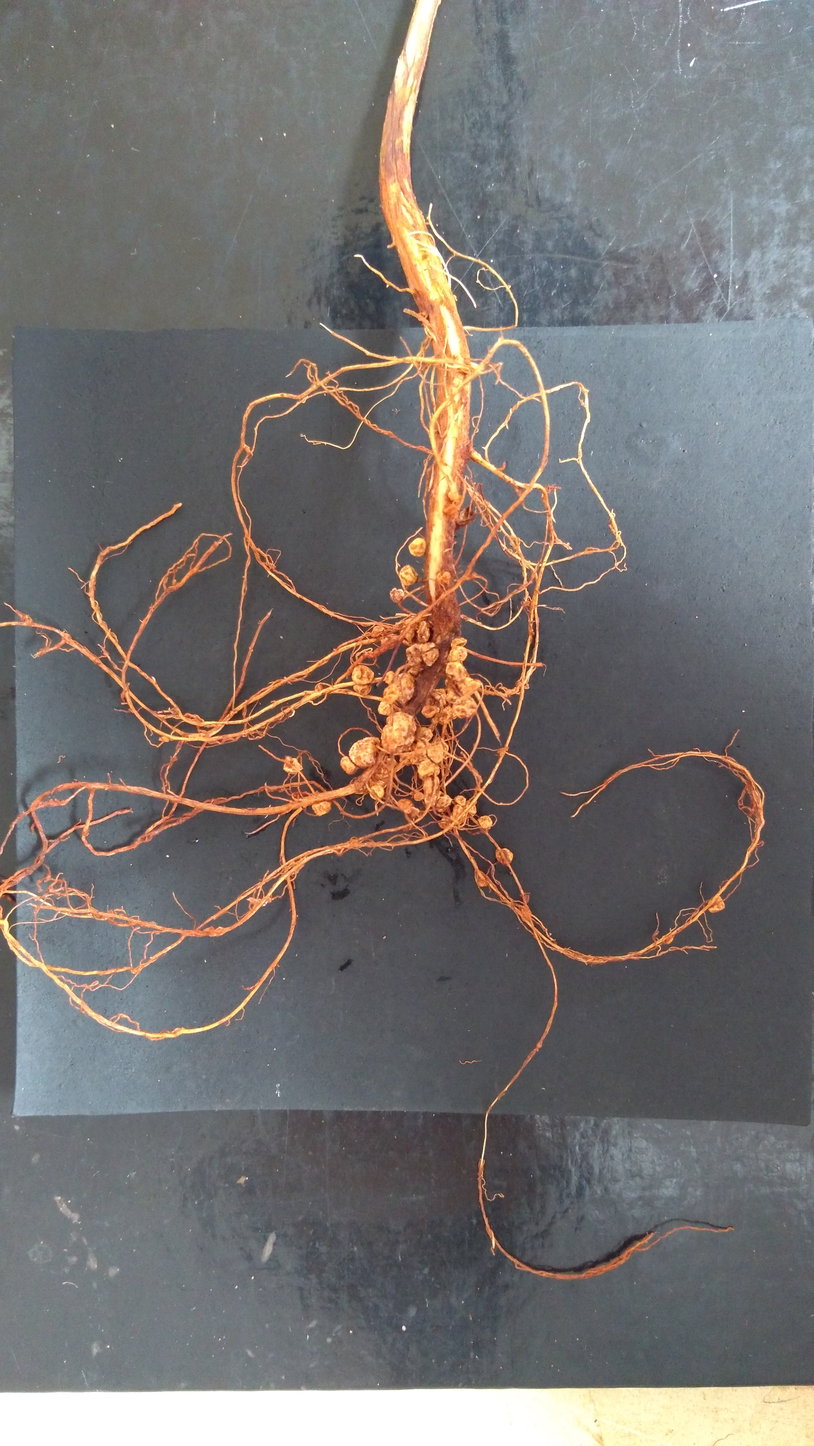nodule: (380, 712, 417, 753), (432, 592, 460, 646), (348, 736, 380, 769), (421, 688, 447, 725), (405, 641, 439, 667), (370, 757, 397, 786), (445, 677, 482, 696), (394, 671, 415, 704), (427, 736, 449, 764), (452, 697, 478, 719), (416, 758, 440, 780), (422, 775, 438, 807), (399, 750, 433, 765), (352, 665, 375, 686), (445, 661, 468, 681), (399, 565, 419, 587), (402, 616, 418, 643), (445, 680, 463, 704), (283, 755, 303, 775), (436, 789, 453, 812), (340, 756, 359, 776), (408, 537, 426, 557), (494, 847, 514, 865), (439, 704, 457, 724), (447, 645, 468, 662), (378, 700, 400, 716), (412, 737, 433, 753), (475, 869, 492, 888), (416, 620, 430, 643), (311, 800, 331, 816), (450, 804, 466, 824), (383, 684, 399, 704), (414, 726, 433, 742), (397, 798, 415, 814), (381, 633, 399, 649), (707, 896, 725, 912), (442, 503, 459, 519), (447, 487, 463, 503), (369, 784, 385, 800), (291, 791, 312, 803), (390, 587, 405, 603), (438, 815, 454, 830), (518, 904, 532, 921), (370, 625, 388, 638), (203, 926, 224, 937), (246, 897, 268, 907), (450, 636, 468, 648), (478, 815, 493, 829), (464, 800, 477, 816), (19, 613, 33, 627), (407, 664, 423, 676), (353, 685, 372, 695), (440, 569, 451, 584), (453, 795, 466, 806), (170, 706, 181, 719), (417, 311, 429, 322), (453, 354, 466, 364), (385, 670, 394, 683), (314, 683, 325, 693), (414, 790, 424, 801), (663, 934, 674, 944), (497, 747, 508, 757), (410, 806, 419, 818), (159, 735, 170, 743), (261, 896, 272, 903), (515, 680, 522, 687)
